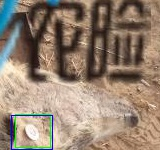text: (15, 114, 50, 147)
